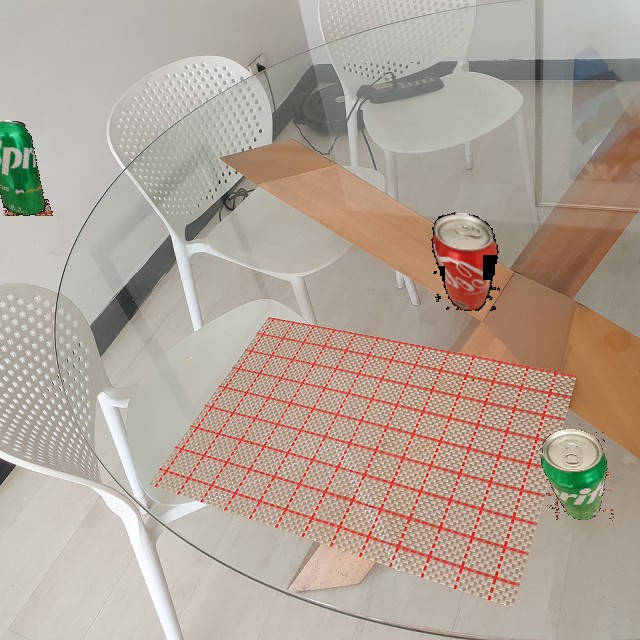coca cola: (421, 211, 511, 314)
sprite: (537, 429, 614, 521), (0, 120, 53, 216)
